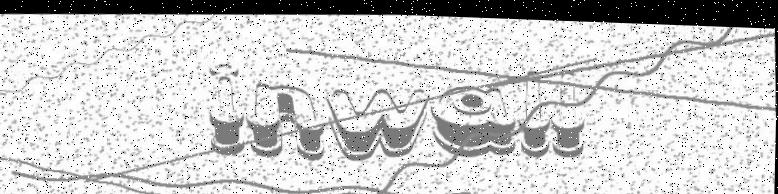a: (430, 78, 519, 157)
i: (204, 59, 249, 155)
l: (549, 60, 588, 154), (518, 65, 554, 157)
n: (245, 76, 329, 161)
w: (324, 80, 433, 163)
